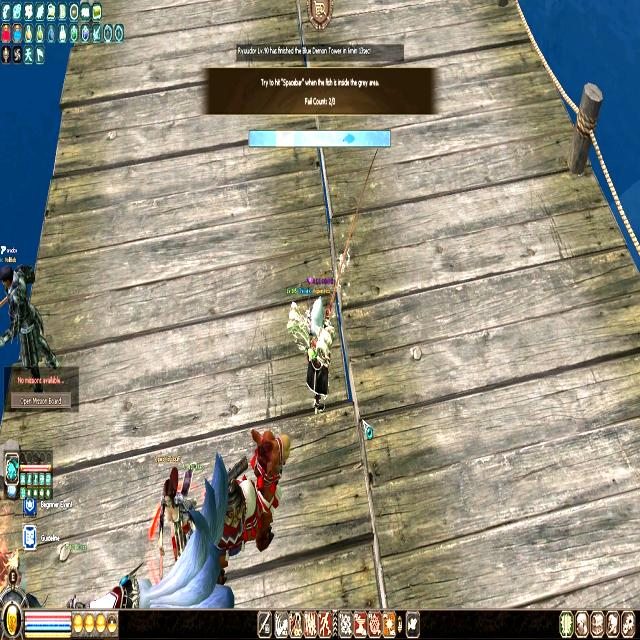fishes: (342, 131, 354, 145)
